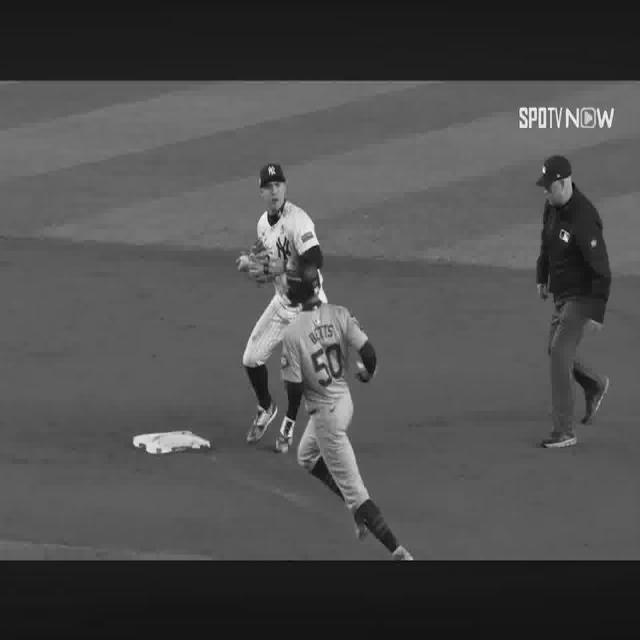base: (132, 430, 210, 455)
baseball_glove: (238, 250, 284, 282)
shoe: (246, 402, 278, 443), (582, 378, 609, 423), (276, 417, 295, 453), (542, 429, 576, 449)
